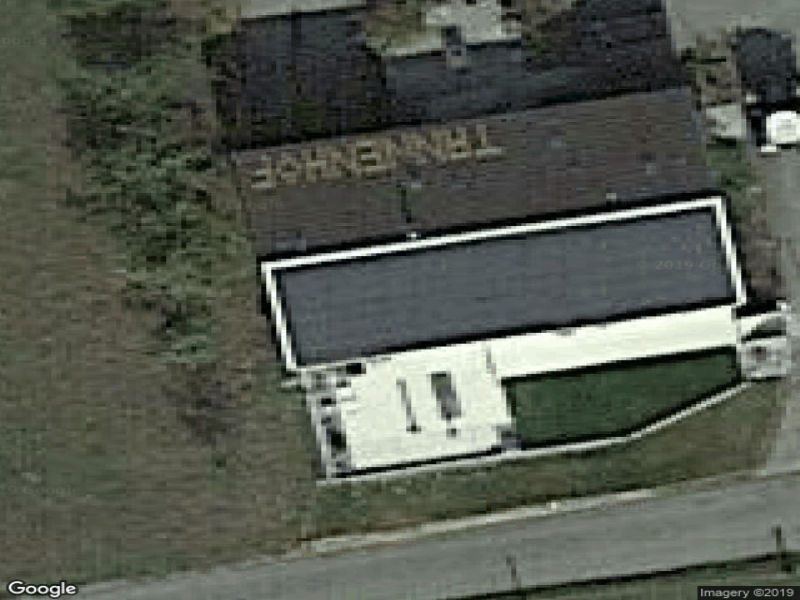pv: (273, 208, 735, 367)
